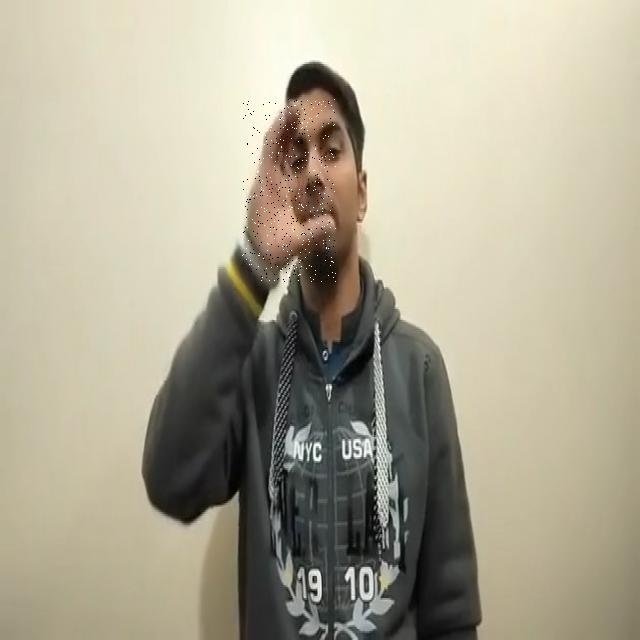drink: (242, 99, 336, 282)
